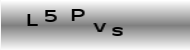5: (43, 8, 58, 24)
L: (26, 13, 39, 27)
P: (70, 7, 85, 22)
s: (110, 26, 124, 36)
v: (92, 21, 107, 32)
